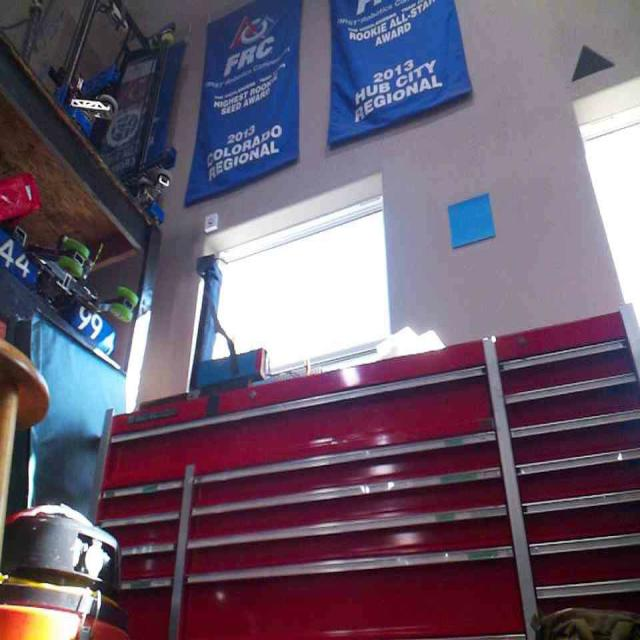square_blue: (446, 191, 494, 248)
triangle_black: (570, 42, 614, 80)
